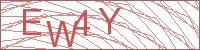4: (72, 8, 92, 37)
E: (21, 6, 43, 38)
W: (44, 20, 79, 49)
Y: (96, 6, 123, 37)
